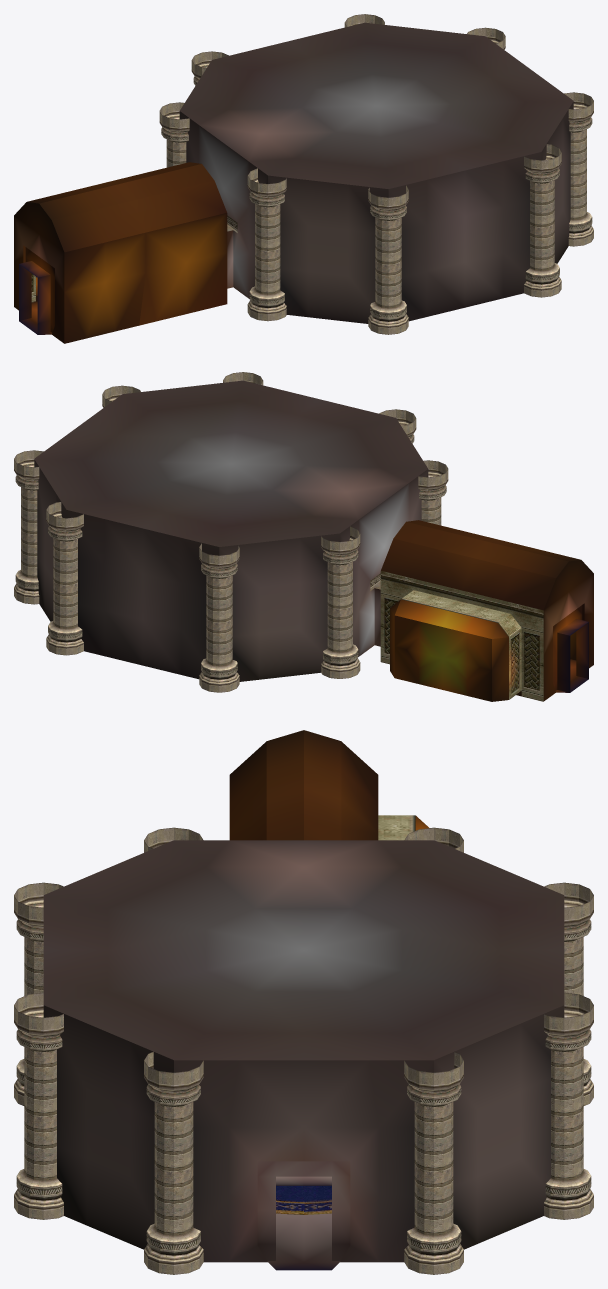
3 views of the same model, one above another, from view 1: azimuth 30°, elevation 25°; view 2: azimuth 150°, elevation 25°; view 3: azimuth 270°, elevation 25° (orthographic). The views are drawn at different scales.
Parts seen in each view (by area): view 1: node-009526B3, node-02497613, node-0118DC4C, node-00410D1E; view 2: node-009526B3, node-02497613, node-0118DC4C, node-033BA6B3, node-00410D1E; view 3: node-02497613, node-009526B3, node-0118DC4C, node-00410D1E, node-01CE56CA, node-03313EBC, node-033BA6B3.
Boxes of the visible parts, left/top/right/bottom form: node-009526B3: left=14, top=101, right=573, bottom=343; node-02497613: left=180, top=22, right=573, bottom=188; node-0118DC4C: left=159, top=14, right=593, bottom=334; node-00410D1E: left=19, top=245, right=54, bottom=334; node-009526B3: left=34, top=459, right=593, bottom=701; node-02497613: left=34, top=380, right=427, bottom=546; node-0118DC4C: left=14, top=372, right=448, bottom=692; node-033BA6B3: left=380, top=571, right=543, bottom=701; node-00410D1E: left=553, top=603, right=588, bottom=692; node-02497613: left=43, top=840, right=564, bottom=1060; node-009526B3: left=43, top=730, right=564, bottom=1262; node-0118DC4C: left=14, top=827, right=593, bottom=1274; node-00410D1E: left=257, top=1161, right=350, bottom=1260; node-01CE56CA: left=267, top=1213, right=340, bottom=1262; node-03313EBC: left=276, top=1186, right=331, bottom=1214; node-033BA6B3: left=378, top=815, right=415, bottom=840.
Bounding box in the file's own units: 950 × 240 × 624.
